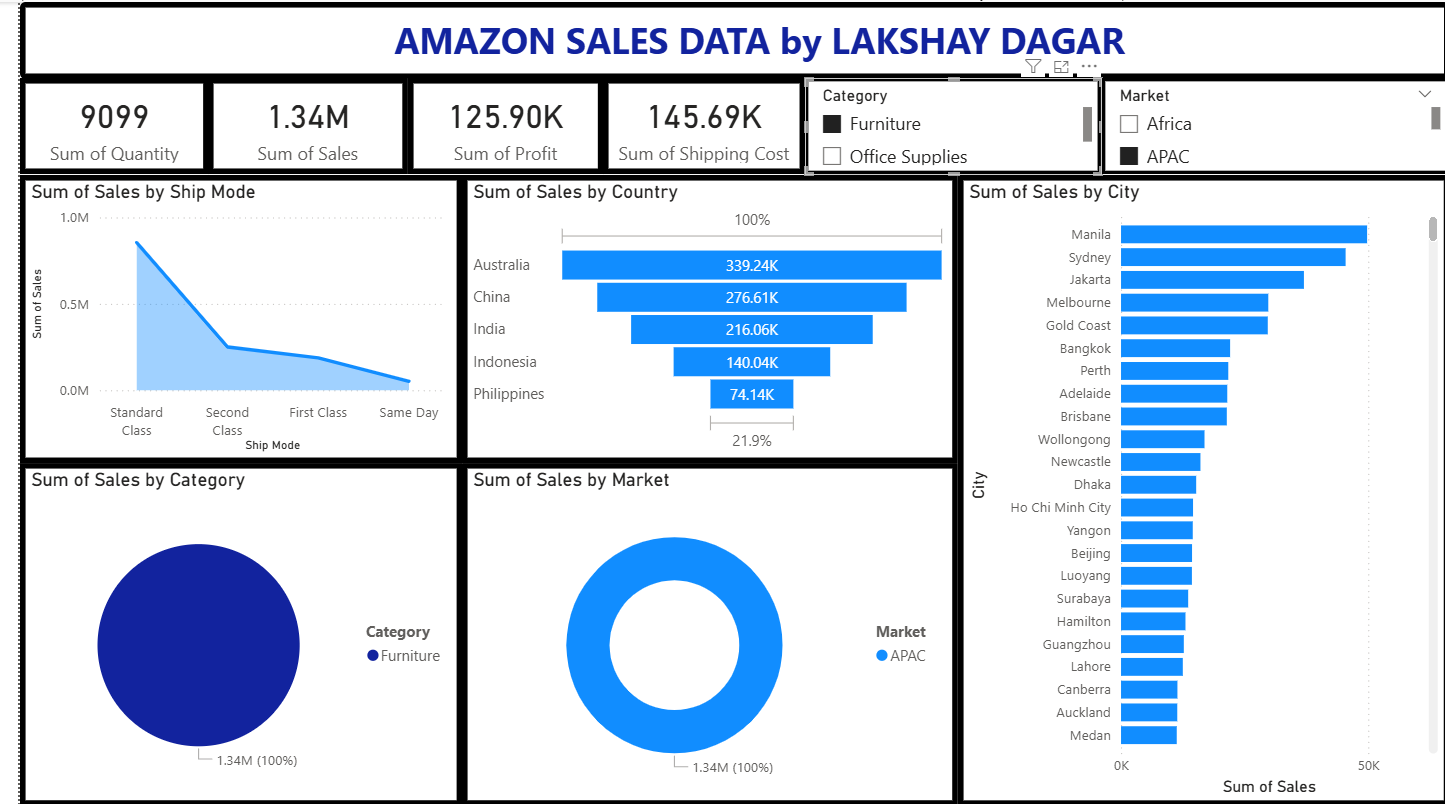

Layout of this report page (visuals, bound fields, positions):
{"tool":"powerbi","page":{"name":"Page 1","canvas":[1280,720],"ordinal":0},"visuals":[{"type":"pieChart","fields":{"Category":["Orders.Category"],"Y":["Sum(Orders.Sales)"]},"box":[0,412.4,395.9,307.4],"z":0},{"type":"donutChart","fields":{"Category":["Orders.Market"],"Y":["Sum(Orders.Sales)"]},"box":[395.9,412.4,444.5,307.4],"z":1000},{"type":"areaChart","fields":{"Category":["Orders.Ship Mode"],"Y":["Sum(Orders.Sales)"]},"box":[0,154.7,395.9,257.8],"z":2000},{"type":"clusteredBarChart","fields":{"Category":["Orders.City"],"Y":["Sum(Orders.Sales)"]},"box":[840.4,154.7,439.6,565.1],"z":3000},{"type":"funnel","fields":{"Y":["Sum(Orders.Sales)"],"Category":["Orders.Country"]},"box":[395.9,154.7,444.5,257.8],"z":3001},{"type":"textbox","box":[0,0,1280,68.7],"z":3002},{"type":"card","fields":{"Values":["Sum(Orders.Quantity)"]},"box":[0,68.3,168.8,86.4],"z":3003},{"type":"card","fields":{"Values":["Sum(Orders.Sales)"]},"box":[168.8,68.3,178.8,86.4],"z":3004},{"type":"card","fields":{"Values":["Sum(Orders.Profit)"]},"box":[347.6,68.3,174.8,86.4],"z":3005},{"type":"card","fields":{"Values":["Sum(Orders.Shipping Cost)"]},"box":[522.4,68.3,180.8,86.4],"z":3006},{"type":"slicer","fields":{"Values":["Orders.Category"]},"box":[703.3,68.3,265.2,86.4],"z":3007},{"type":"slicer","fields":{"Values":["Orders.Market"]},"box":[968.5,68.3,311.5,86.4],"z":3008}]}

Visuals, with their boxes in screenshot pixels (x1, y1, x2, y2), scaled from the page's 1280x720 canvas onto the 1445x804 screenshot:
pieChart - Orders.Category x Sum(Orders.Sales): 0,461,447,803
donutChart - Orders.Market x Sum(Orders.Sales): 447,461,949,803
areaChart - Orders.Ship Mode x Sum(Orders.Sales): 0,173,447,461
clusteredBarChart - Orders.City x Sum(Orders.Sales): 949,173,1444,803
funnel - Sum(Orders.Sales) x Orders.Country: 447,173,949,461
textbox: 0,0,1444,77
card - Sum(Orders.Quantity): 0,76,191,173
card - Sum(Orders.Sales): 191,76,392,173
card - Sum(Orders.Profit): 392,76,590,173
card - Sum(Orders.Shipping Cost): 590,76,794,173
slicer - Orders.Category: 794,76,1093,173
slicer - Orders.Market: 1093,76,1444,173
